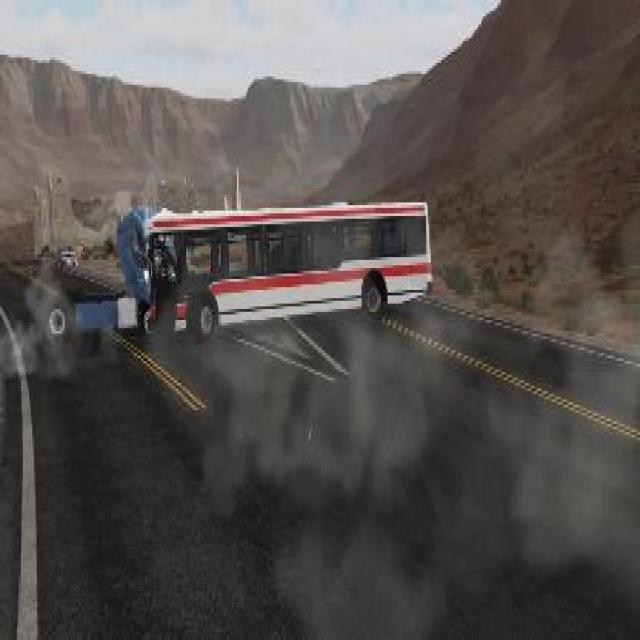accident: (39, 189, 438, 347)
